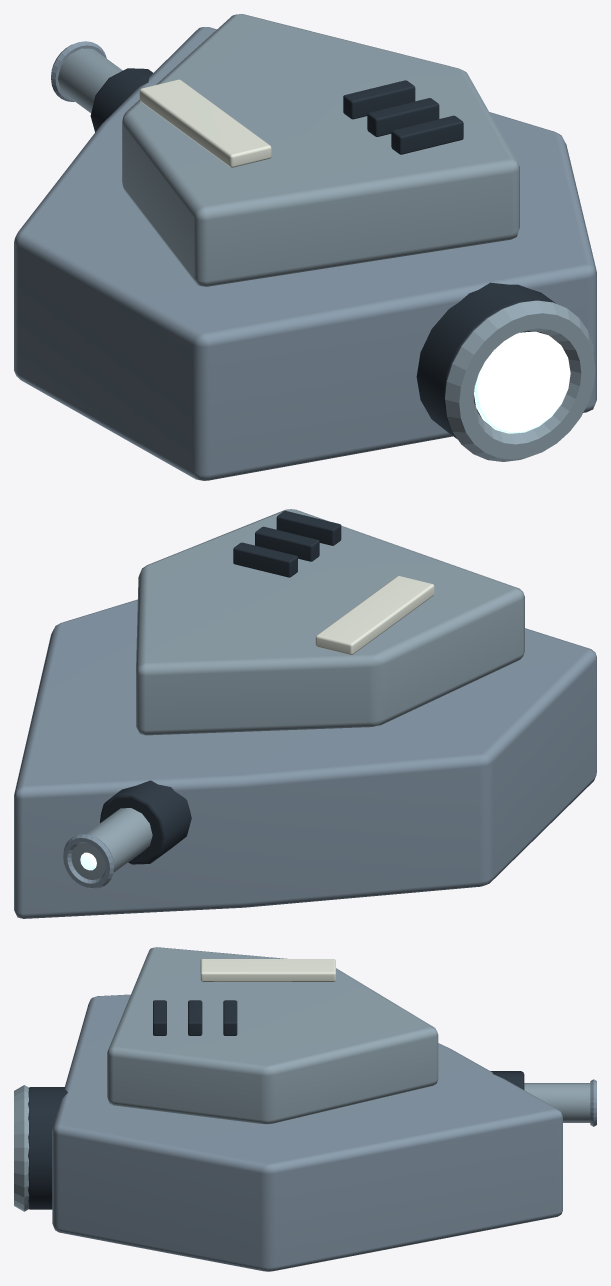
The model's file is miniasteroid_estilhaco.glb.
3 renders of one model, top to bottom at view 1: azimuth 30°, elevation 25°; view 2: azimuth 150°, elevation 25°; view 3: azimuth 270°, elevation 25°, orthographic. The views are drawn at different scales.
Parts seen in each view (by area): view 1: miniasteroid | ESTILHACO | armor, miniasteroid | Titanium, miniasteroid | Graphite chassis, miniasteroid | ESTILHACO | energy, miniasteroid | Ivory identification; view 2: miniasteroid | ESTILHACO | armor, miniasteroid | Titanium, miniasteroid | Graphite chassis, miniasteroid | Ivory identification; view 3: miniasteroid | ESTILHACO | armor, miniasteroid | Titanium, miniasteroid | Graphite chassis, miniasteroid | Ivory identification.
Boxes of the visible parts, <box> form: miniasteroid | ESTILHACO | armor: <box>14,27,596,480</box>; miniasteroid | Titanium: <box>58,14,595,461</box>; miniasteroid | Graphite chassis: <box>90,68,555,439</box>; miniasteroid | ESTILHACO | energy: <box>474,331,570,433</box>; miniasteroid | Ivory identification: <box>139,79,271,167</box>; miniasteroid | ESTILHACO | armor: <box>14,599,596,918</box>; miniasteroid | Titanium: <box>71,509,524,879</box>; miniasteroid | Graphite chassis: <box>100,511,341,864</box>; miniasteroid | Ivory identification: <box>315,576,434,654</box>; miniasteroid | ESTILHACO | armor: <box>52,994,596,1271</box>; miniasteroid | Titanium: <box>14,947,590,1211</box>; miniasteroid | Graphite chassis: <box>28,1000,524,1209</box>; miniasteroid | Ivory identification: <box>200,959,335,981</box>.
Bounding box in the file's own units: 0.8055 × 0.396 × 1.08.
